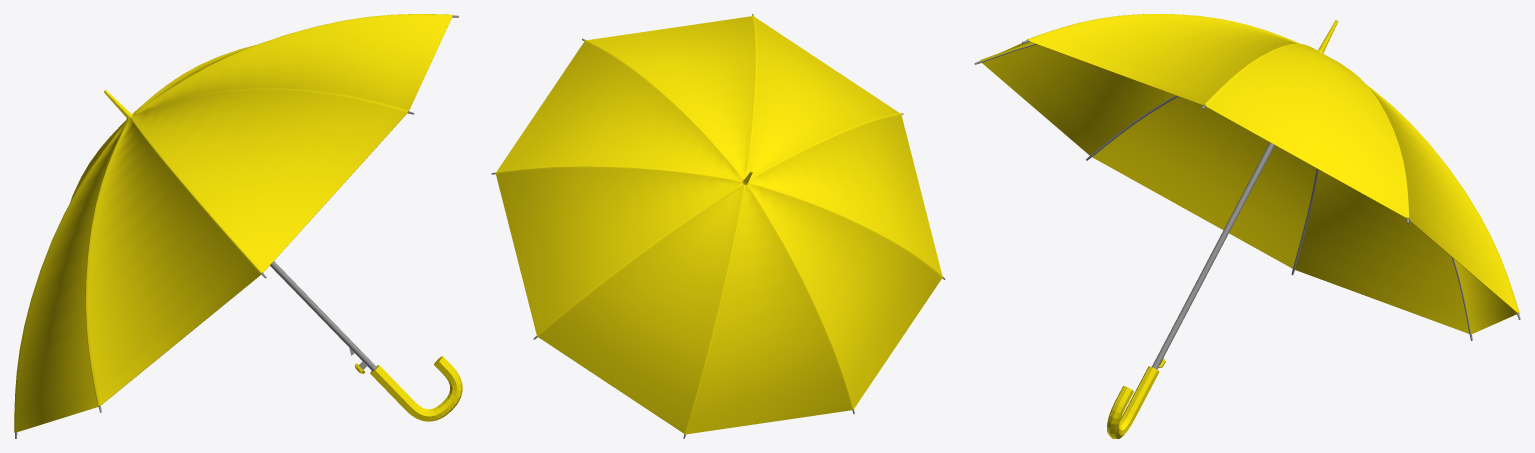
The model's file is U-Umbrealla.FBX.
3 views of the same model, side by side, from view 1: azimuth 30°, elevation 25°; view 2: azimuth 150°, elevation 25°; view 3: azimuth 270°, elevation 25° (orthographic). The views are drawn at different scales.
Parts seen in each view (by area): view 1: Object001, Object002, U_umbrella; view 2: Object001; view 3: Object001, U_umbrella, Object002.
Boxes of the visible parts, x1=… form: Object001: x1=14, y1=14, x2=452, y2=432; Object002: x1=104, y1=90, x2=462, y2=421; U_umbrella: x1=15, y1=15, x2=458, y2=438; Object001: x1=495, y1=15, x2=943, y2=434; Object001: x1=980, y1=14, x2=1519, y2=334; U_umbrella: x1=974, y1=40, x2=1520, y2=369; Object002: x1=1107, y1=20, x2=1338, y2=438.
Bounding box in the file's own units: 101 × 80.7 × 109.
